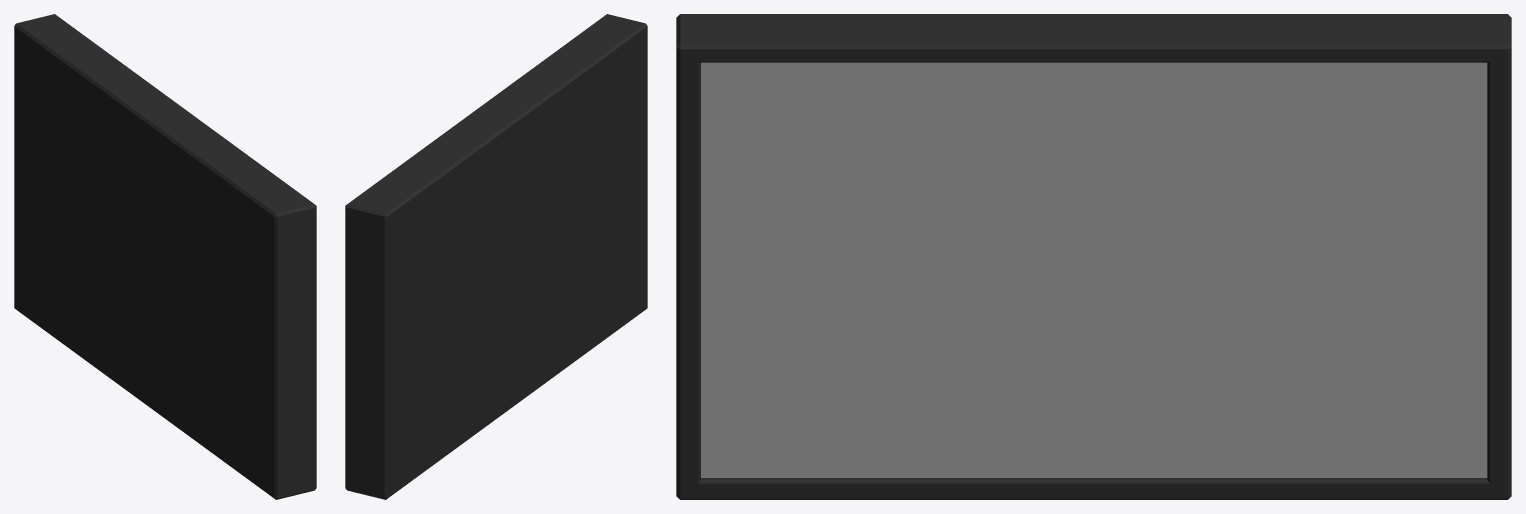
The model's file is ScreenWithNoStand.fbx.
The picture shows the model from 3 angles, left to right: view 1: azimuth 30°, elevation 25°; view 2: azimuth 150°, elevation 25°; view 3: azimuth 270°, elevation 25°; orthographic projection. The views are drawn at different scales.
Parts seen in each view (by area): view 1: polySurface23; view 2: polySurface23; view 3: polySurface23.
Part boxes in pixels (left/top/right/bottom): polySurface23: left=14, top=14, right=316, bottom=499; polySurface23: left=345, top=14, right=647, bottom=499; polySurface23: left=676, top=14, right=1511, bottom=499.
Bounding box in the file's own units: 23.79 × 152 × 252.
